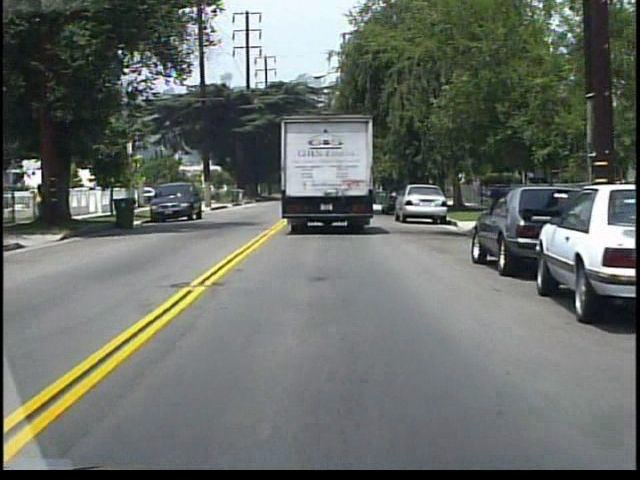person: (35, 181, 49, 219)
